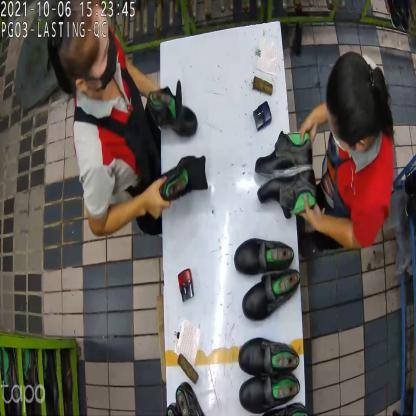shoes: (146, 84, 208, 198), (232, 240, 302, 322), (256, 131, 318, 207), (237, 336, 301, 409)
stamp: (253, 100, 273, 132), (178, 271, 197, 303)
